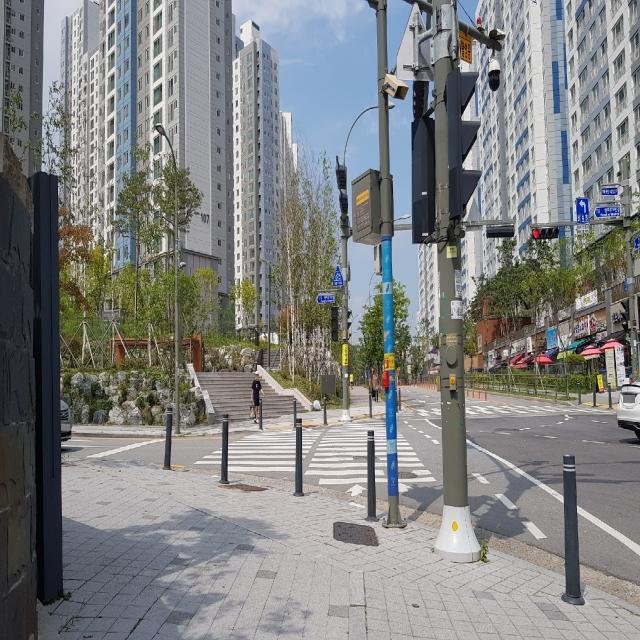횡단보도: (192, 420, 438, 498), (401, 404, 573, 415)
